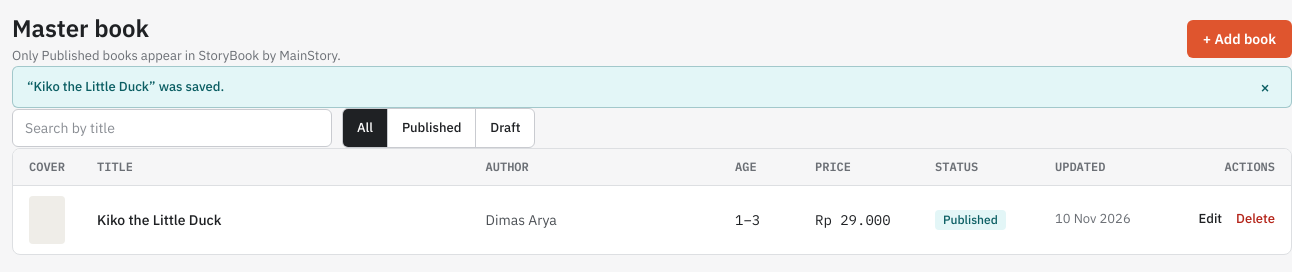
Test: BooksPage notices (item 16) › can be dismissed
This screenshot has width=1292, height=272.
Click the button named "Dismiss message". click: coordinates (1265, 86)
box: [1253,74,1277,98]
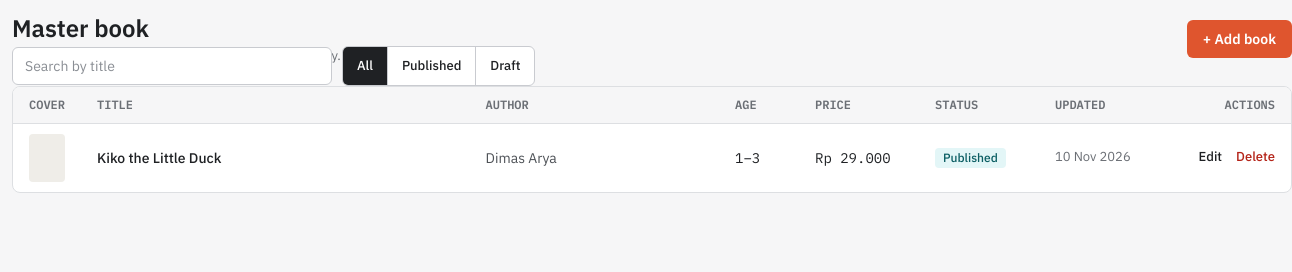
Now the text "“Kiko the Little Duck” was saved." is gone
